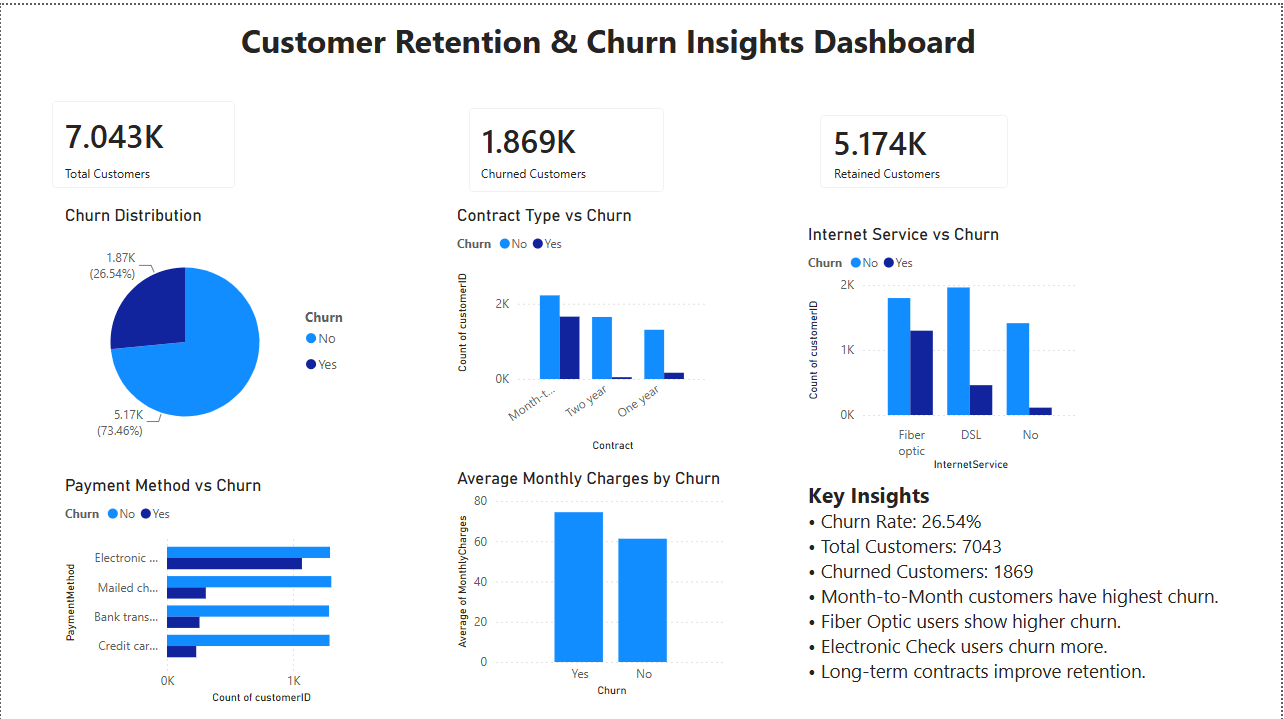

This screenshot's page, from the dashboard's own definition file:
{"tool":"powerbi","page":{"name":"Page 1","canvas":[1280,720],"ordinal":0},"visuals":[{"type":"pieChart","title":"Churn Distribution","fields":{"Category":["Telco-Customer-Churn.Churn"],"Y":["CountNonNull(Telco-Customer-Churn.customerID)"]},"box":[59,200,308,255],"z":0},{"type":"clusteredColumnChart","title":"Contract Type vs Churn","fields":{"Category":["Telco-Customer-Churn.Contract"],"Y":["CountNonNull(Telco-Customer-Churn.customerID)"],"Series":["Telco-Customer-Churn.Churn"]},"box":[451,200,260,251],"z":1},{"type":"cardVisual","fields":{"Data":["Count(Telco-Customer-Churn.customerID)"]},"box":[451,86,229,118],"z":3},{"type":"cardVisual","fields":{"Data":["Count(Telco-Customer-Churn.customerID)"]},"box":[802,93,222,107],"z":4},{"type":"clusteredColumnChart","title":"Internet Service vs Churn","fields":{"Category":["Telco-Customer-Churn.InternetService"],"Y":["CountNonNull(Telco-Customer-Churn.customerID)"],"Series":["Telco-Customer-Churn.Churn"]},"box":[802,219,280,251],"z":5},{"type":"clusteredBarChart","title":"Payment Method vs Churn","fields":{"Category":["Telco-Customer-Churn.PaymentMethod"],"Y":["CountNonNull(Telco-Customer-Churn.customerID)"],"Series":["Telco-Customer-Churn.Churn"]},"box":[59,470,308,233],"z":6},{"type":"clusteredColumnChart","title":"Average Monthly Charges by Churn","fields":{"Category":["Telco-Customer-Churn.Churn"],"Y":["Avg(Telco-Customer-Churn.MonthlyCharges)"]},"box":[451,463,280,233],"z":7},{"type":"cardVisual","fields":{"Data":["Count(Telco-Customer-Churn.customerID)"]},"box":[34,79,217,121],"z":8},{"type":"textbox","box":[802,470,449,226],"z":9},{"type":"textbox","box":[235,8,835,78],"z":11},{"type":"textbox","box":[59,154,154,27],"z":12},{"type":"textbox","box":[475,154,165,27],"z":13},{"type":"textbox","box":[828,154,156,27],"z":14}]}

Visuals, with their boxes in screenshot pixels (x1, y1, x2, y2), scaled from the page's 1280x720 canvas onto the 1284x719 screenshot:
"Churn Distribution" pieChart: <bbox>59, 200, 368, 454</bbox>
"Contract Type vs Churn" clusteredColumnChart: <bbox>452, 200, 713, 450</bbox>
cardVisual - Count(Telco-Customer-Churn.customerID): <bbox>452, 86, 682, 204</bbox>
cardVisual - Count(Telco-Customer-Churn.customerID): <bbox>805, 93, 1027, 200</bbox>
"Internet Service vs Churn" clusteredColumnChart: <bbox>805, 219, 1085, 469</bbox>
"Payment Method vs Churn" clusteredBarChart: <bbox>59, 469, 368, 702</bbox>
"Average Monthly Charges by Churn" clusteredColumnChart: <bbox>452, 462, 733, 695</bbox>
cardVisual - Count(Telco-Customer-Churn.customerID): <bbox>34, 79, 252, 200</bbox>
textbox: <bbox>805, 469, 1255, 695</bbox>
textbox: <bbox>236, 8, 1073, 86</bbox>
textbox: <bbox>59, 154, 214, 181</bbox>
textbox: <bbox>476, 154, 642, 181</bbox>
textbox: <bbox>831, 154, 987, 181</bbox>
